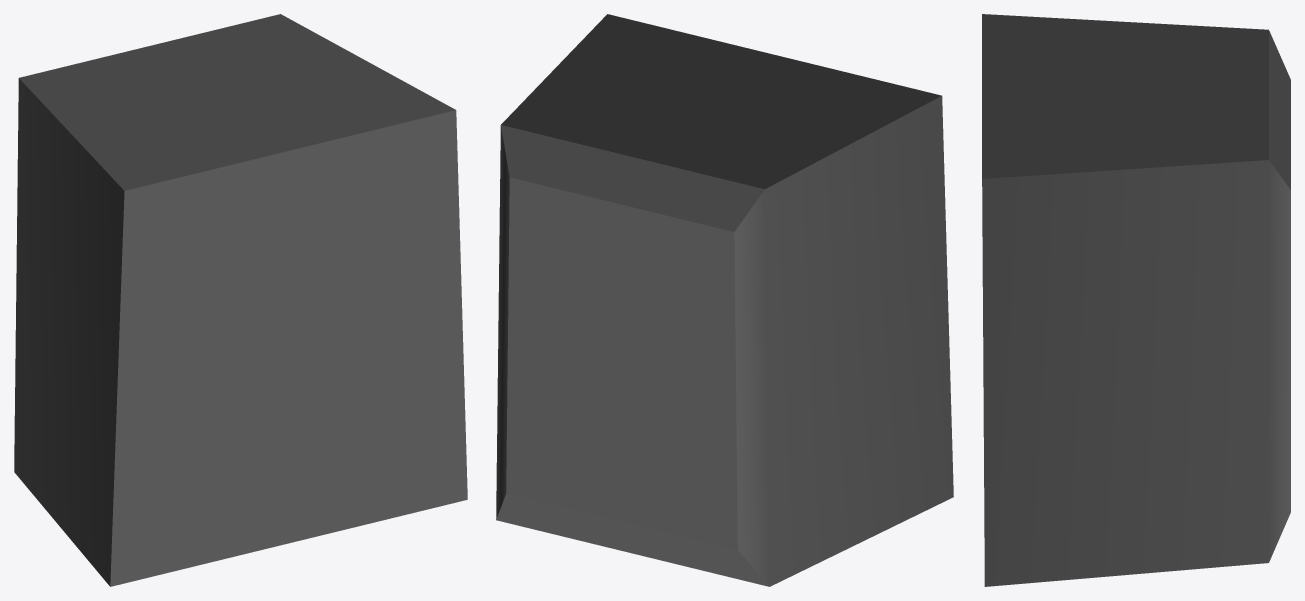
Rendered from ship_vt_04.glb.
3 renders of one model, left to right at view 1: azimuth 30°, elevation 25°; view 2: azimuth 150°, elevation 25°; view 3: azimuth 270°, elevation 25°, orthographic.
Parts seen in each view (by area): view 1: group_13; view 2: group_13; view 3: group_13.
Boxes of the visible parts, box(x1,y1,x2,y2) form: group_13: box(14, 14, 467, 586); group_13: box(496, 14, 953, 586); group_13: box(982, 14, 1290, 586).
Bounding box in the file's own units: 1862 × 1968 × 1366.
Materials: 1 (1 with a texture image).
